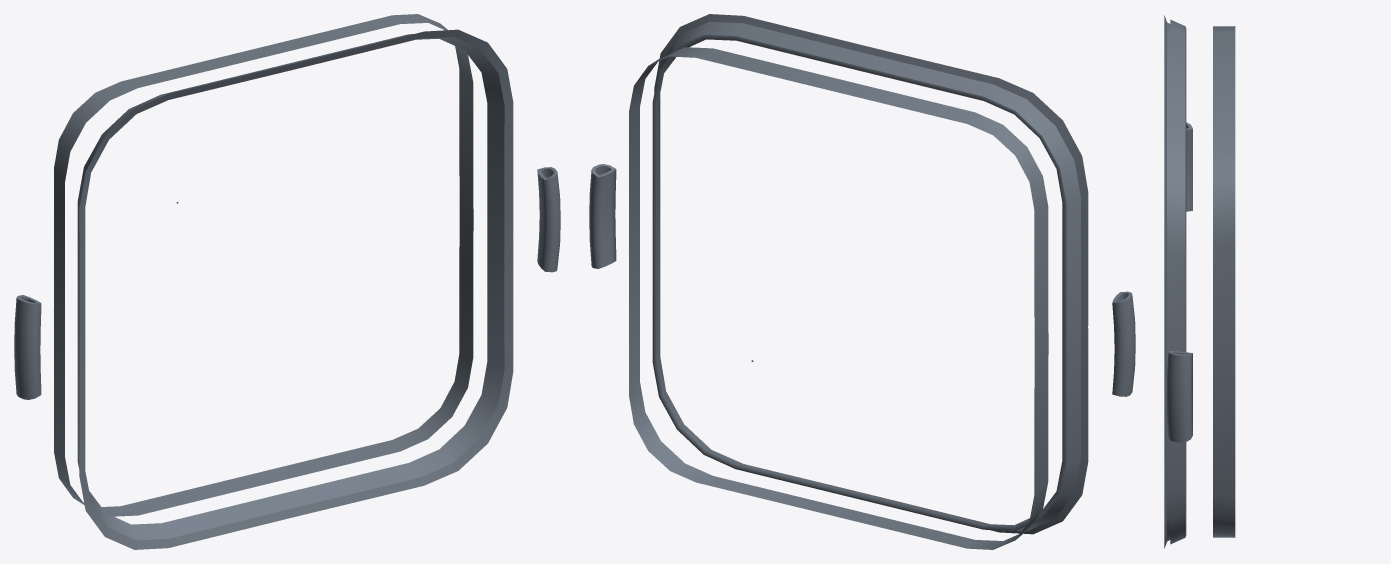
The model's file is MeshPot_28_0_GeomSubset_1.obj.
The picture shows the model from 3 angles, left to right: view 1: azimuth 30°, elevation 25°; view 2: azimuth 150°, elevation 25°; view 3: azimuth 270°, elevation 25°; orthographic projection. The views are drawn at different scales.
Parts seen in each view (by area): view 1: MeshPot_28_0_GeomSubset_1; view 2: MeshPot_28_0_GeomSubset_1; view 3: MeshPot_28_0_GeomSubset_1.
Boxes of the visible parts, bbox=[...] form: MeshPot_28_0_GeomSubset_1: bbox=[14, 14, 560, 549]; MeshPot_28_0_GeomSubset_1: bbox=[589, 14, 1135, 549]; MeshPot_28_0_GeomSubset_1: bbox=[1164, 15, 1235, 548].
Bounding box in the file's own units: 0.3391 × 0.2715 × 0.1288.
